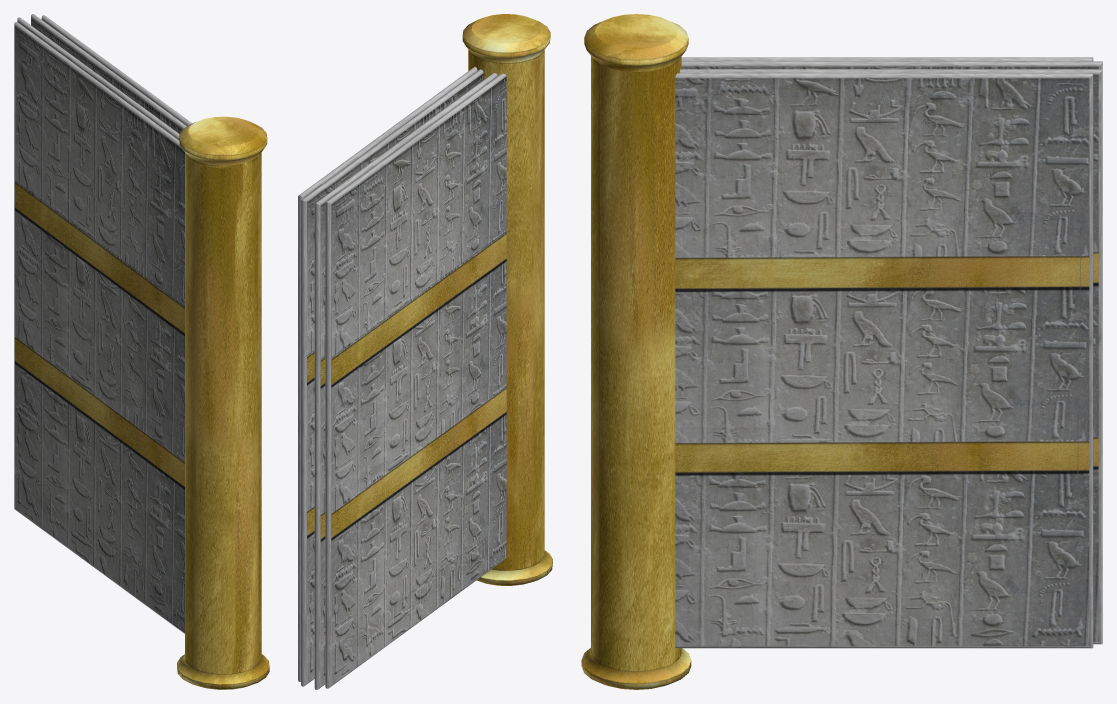
Rendered from LibroDeLosMuertoFinal.fbx.
3 views of the same model, side by side, from view 1: azimuth 30°, elevation 25°; view 2: azimuth 150°, elevation 25°; view 3: azimuth 270°, elevation 25° (orthographic). The views are drawn at different scales.
Parts seen in each view (by area): view 1: hoja7, visagra, hoja8, hoja6, hoja9; view 2: hoja7, visagra, hoja8, hoja6, hoja9; view 3: hoja9, visagra, hoja8, hoja6, hoja7.
Boxes of the visible parts, x1=… form: hoja7: x1=14, y1=22, x2=184, y2=633; visagra: x1=177, y1=116, x2=269, y2=689; hoja8: x1=31, y1=14, x2=186, y2=133; hoja6: x1=17, y1=17, x2=179, y2=139; hoja9: x1=41, y1=15, x2=191, y2=126; hoja7: x1=325, y1=73, x2=506, y2=688; visagra: x1=462, y1=14, x2=552, y2=585; hoja8: x1=301, y1=69, x2=483, y2=686; hoja6: x1=314, y1=73, x2=497, y2=689; hoja9: x1=298, y1=66, x2=477, y2=681; hoja9: x1=675, y1=73, x2=1093, y2=648; visagra: x1=581, y1=14, x2=691, y2=689; hoja8: x1=679, y1=69, x2=1102, y2=644; hoja6: x1=681, y1=61, x2=1102, y2=69; hoja7: x1=681, y1=57, x2=1093, y2=61.
Size of the model in its own units: 2.95 by 18.9 by 13.97.
